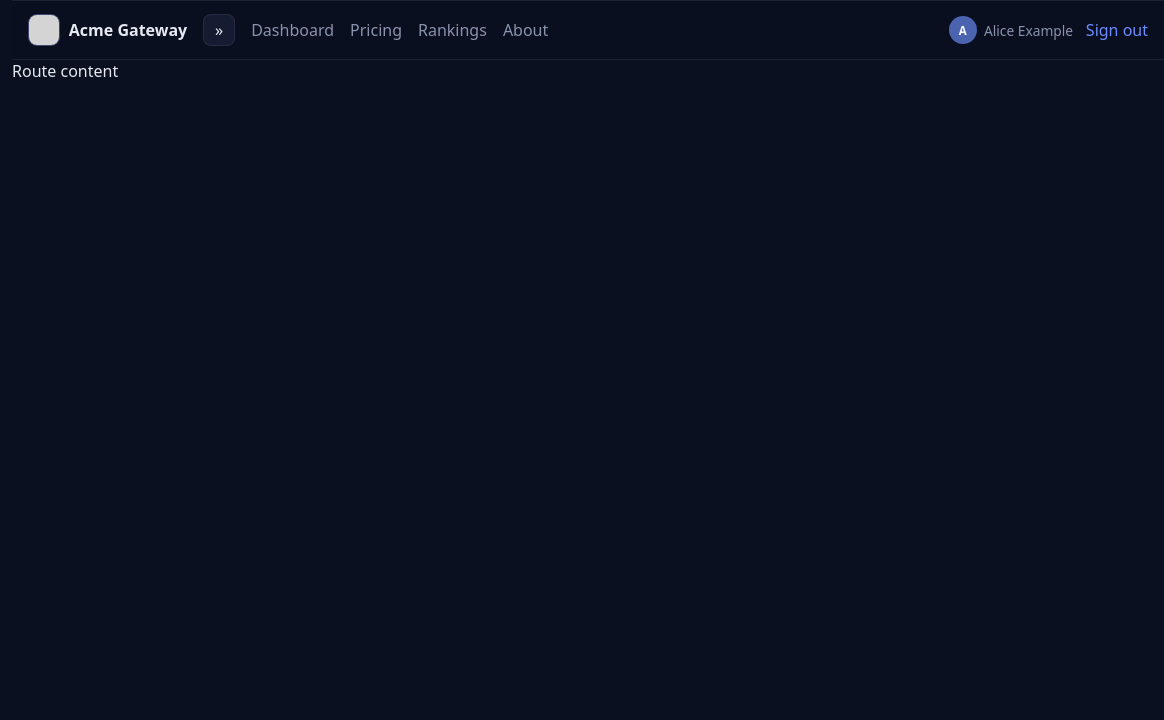
Test: AuthenticatedLayout › applies the public desktop-sidebar default and keeps an accessible session toggle
Click the button named "Expand sidebar".
click(219, 30)  # box [203,14,235,46]
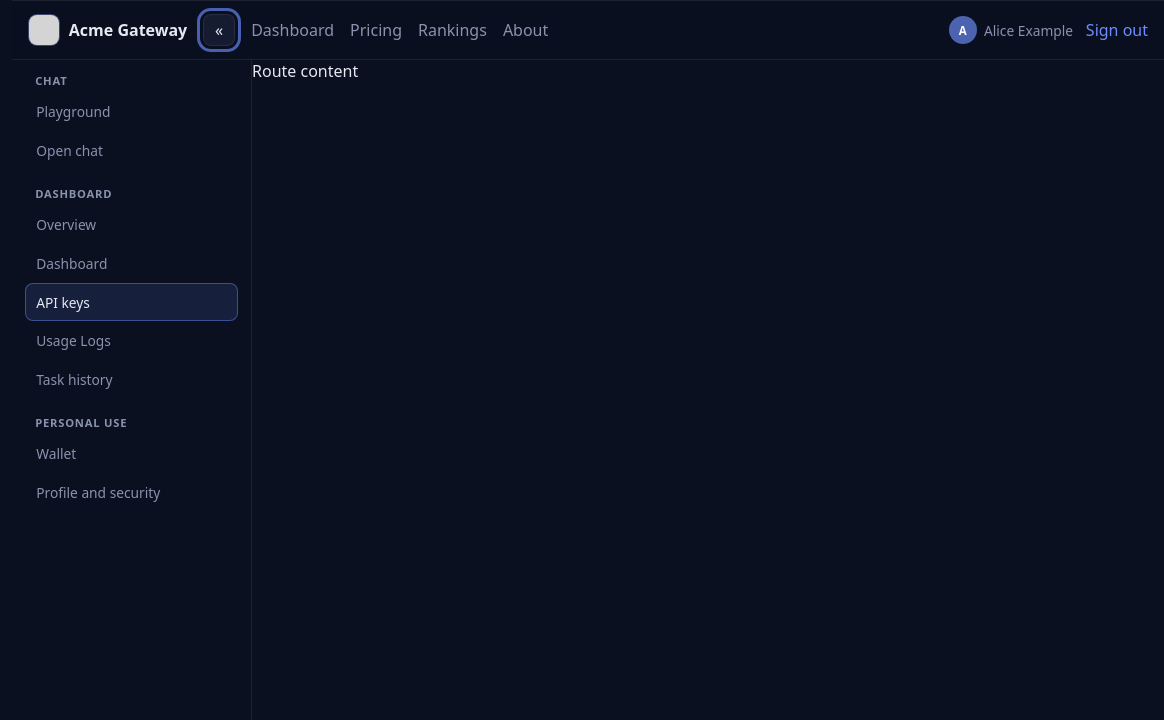
Expected: the button named "Collapse sidebar" is expanded, [203,14,235,46]
